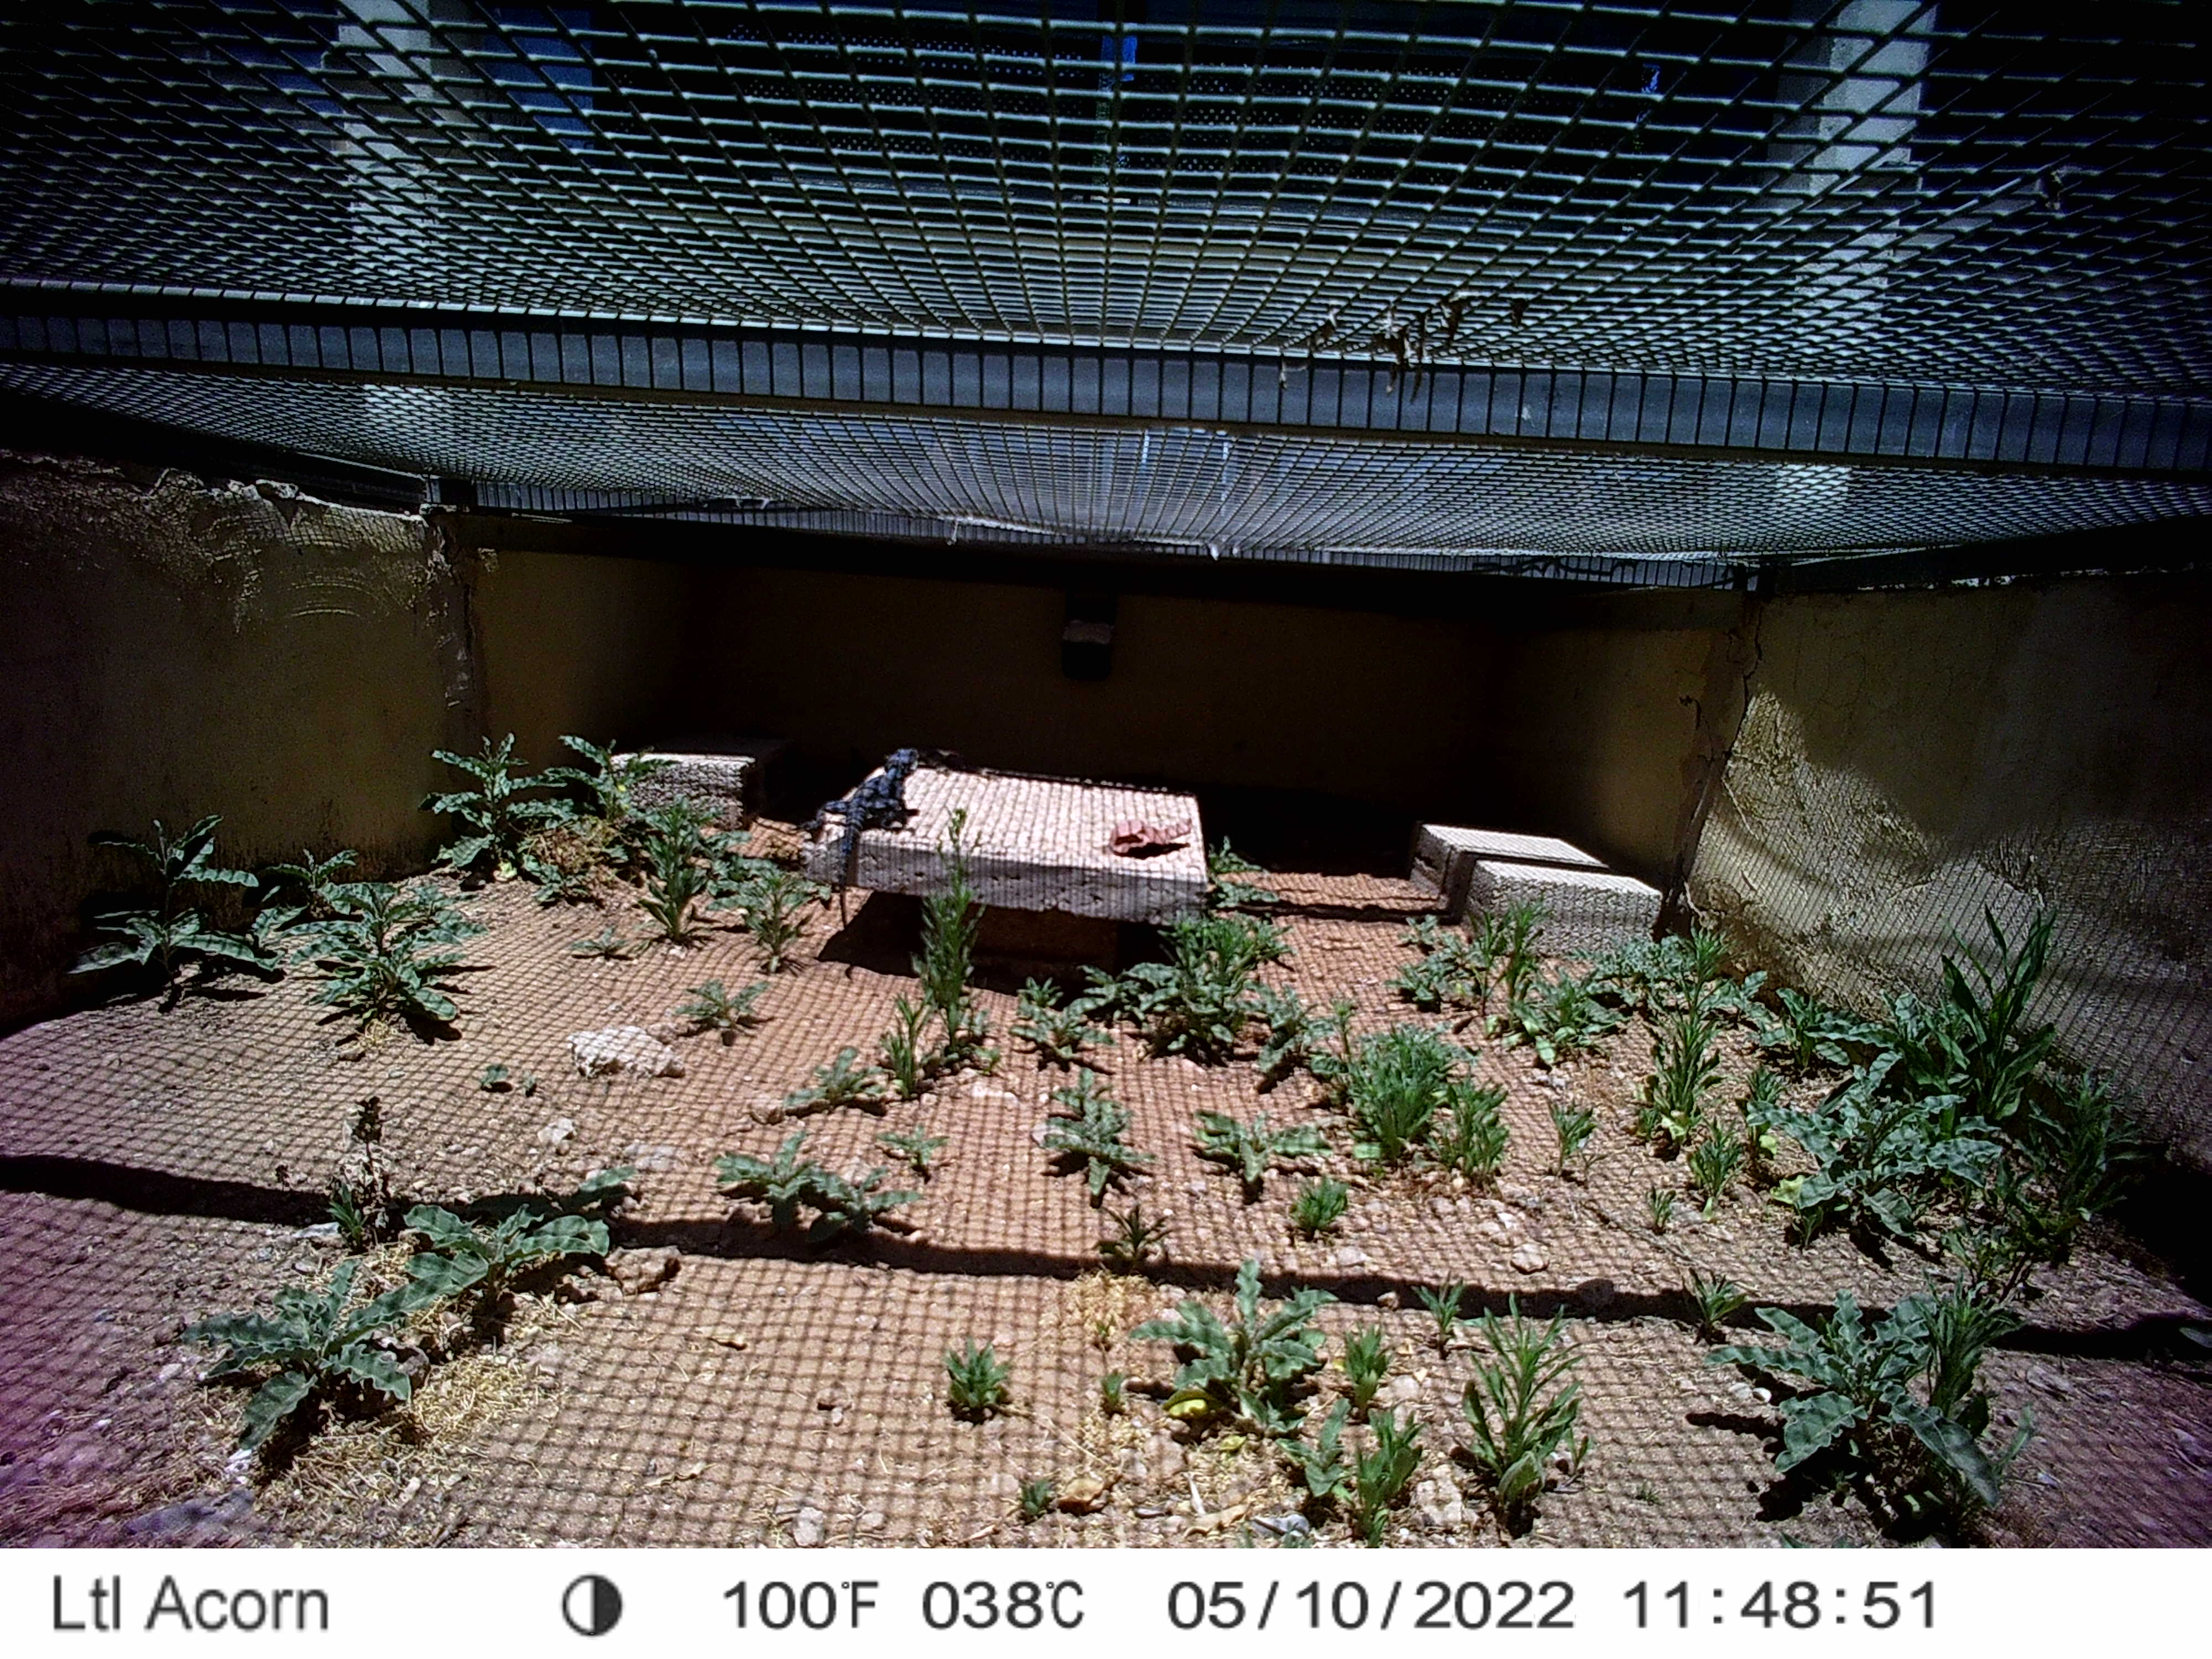lizard: (798, 748, 921, 958), (923, 725, 1010, 782)
